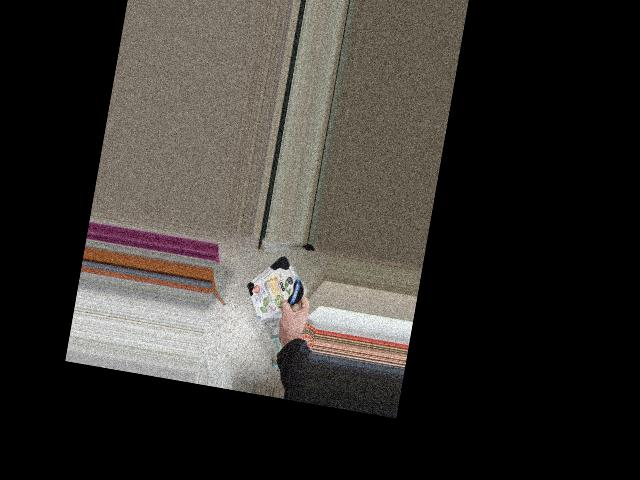cheese: (240, 259, 324, 320)
